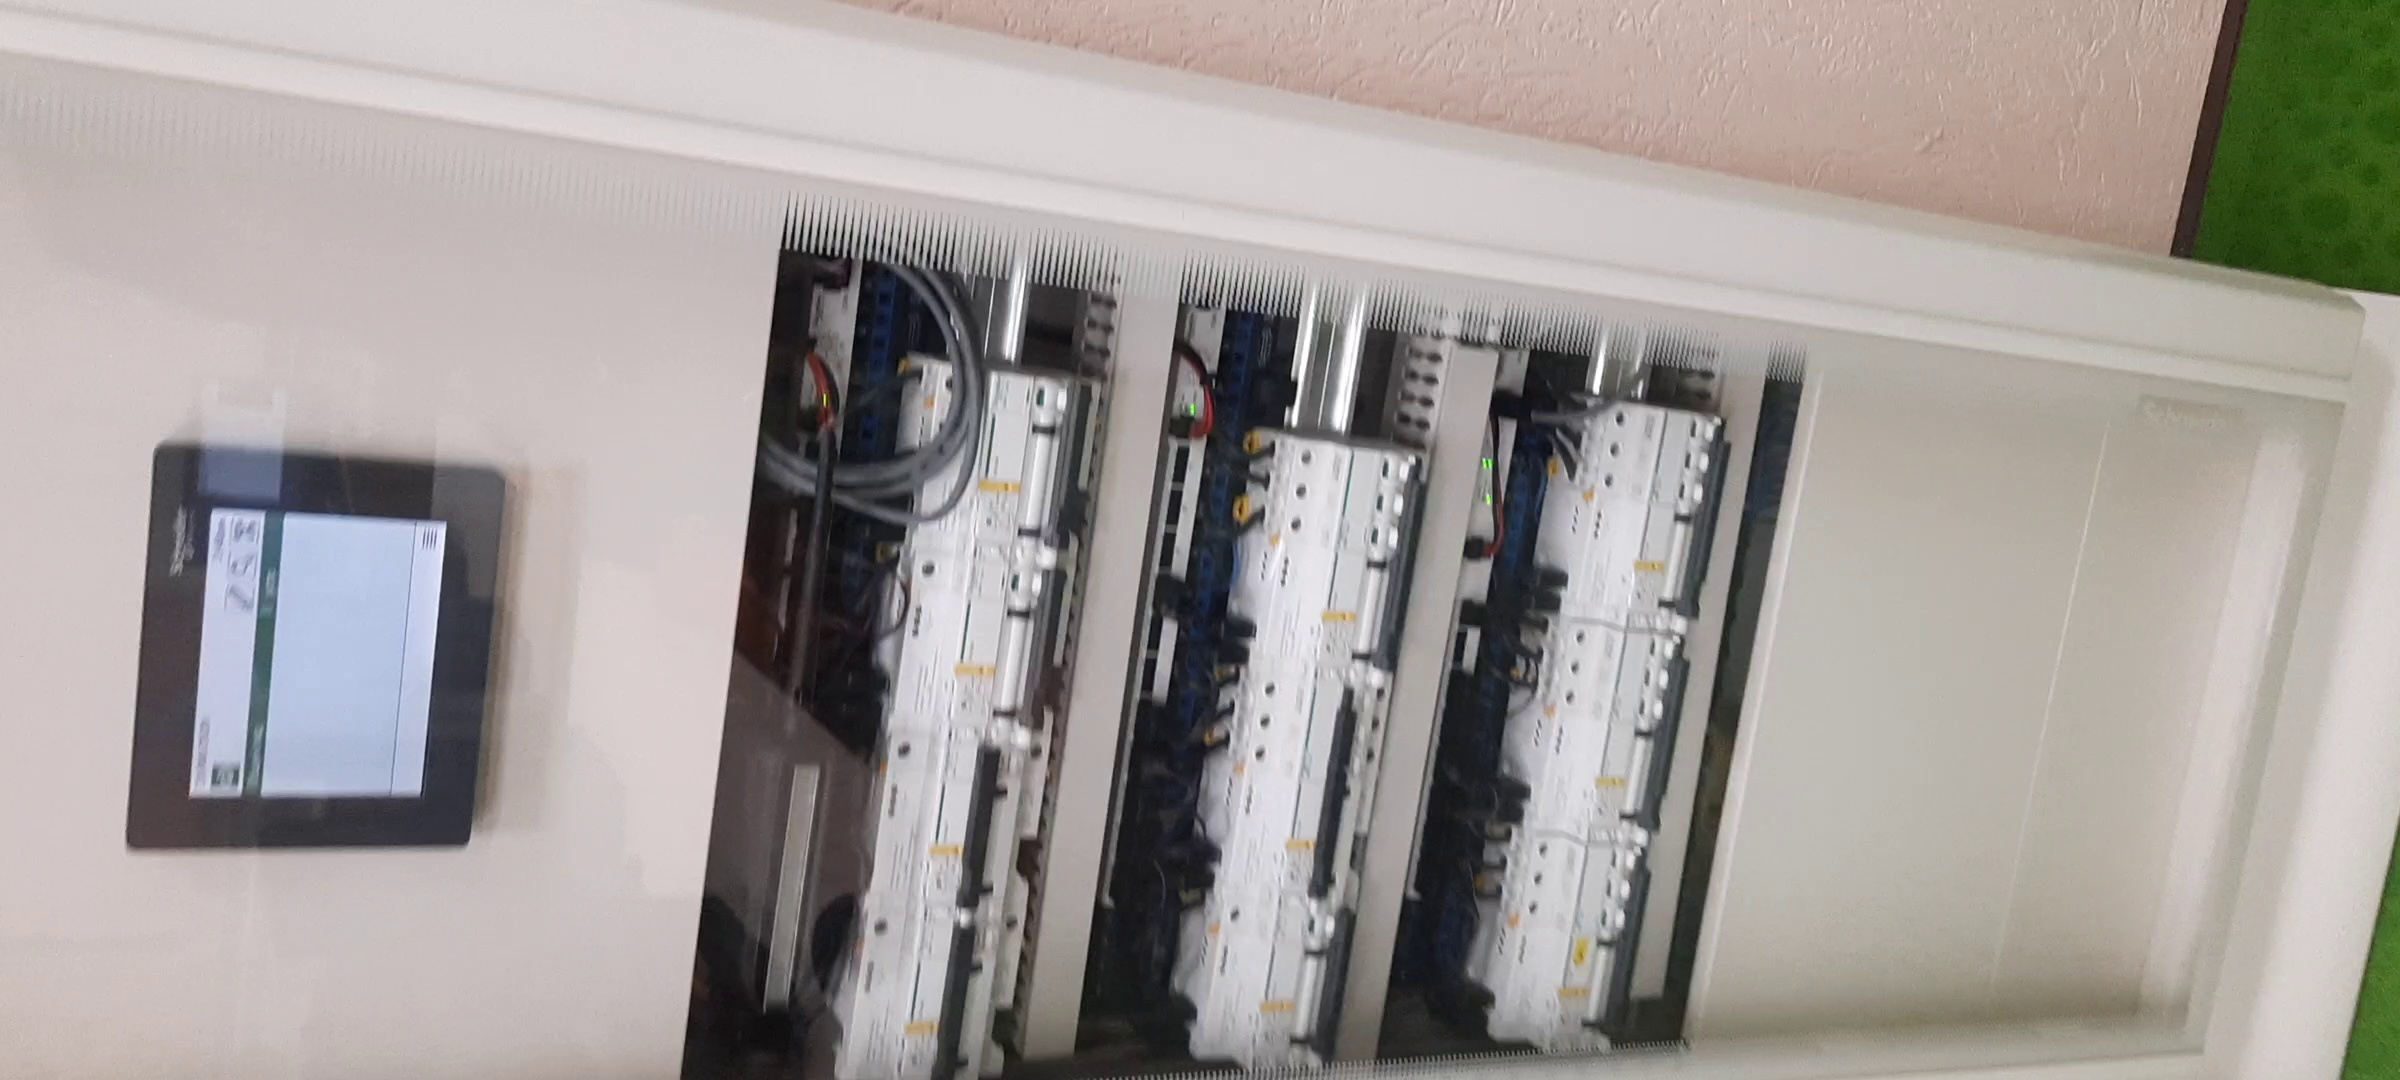smart_stand: (2, 90, 2400, 1078)
